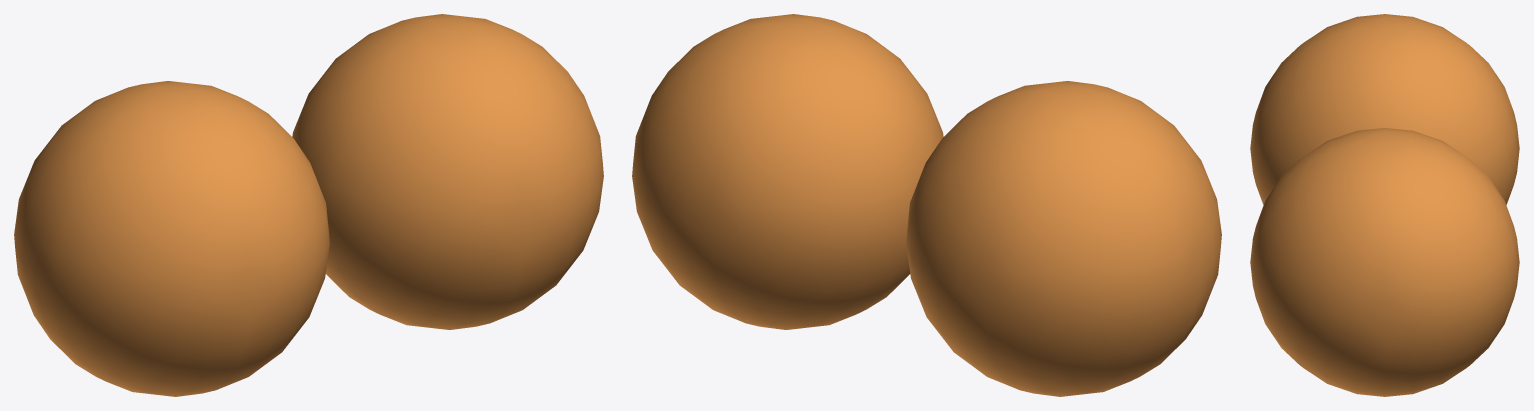
The model's file is expected.gltf.
3 renders of one model, left to right at view 1: azimuth 30°, elevation 25°; view 2: azimuth 150°, elevation 25°; view 3: azimuth 270°, elevation 25°, orthographic. The views are drawn at different scales.
Bounding box in the file's own units: 40 × 20 × 20.
